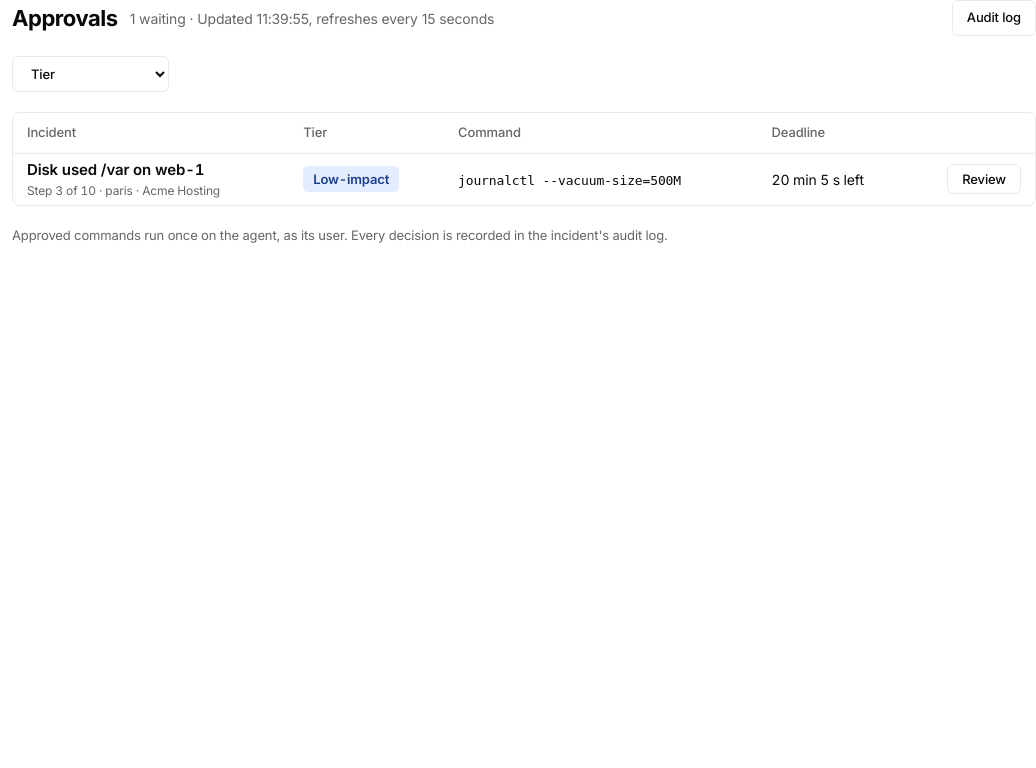
it: ApprovalQueue › approves an edited command
Click the button with aria-label "Review the command for web-1" at x=984, y=179, box [947,164,1021,194]
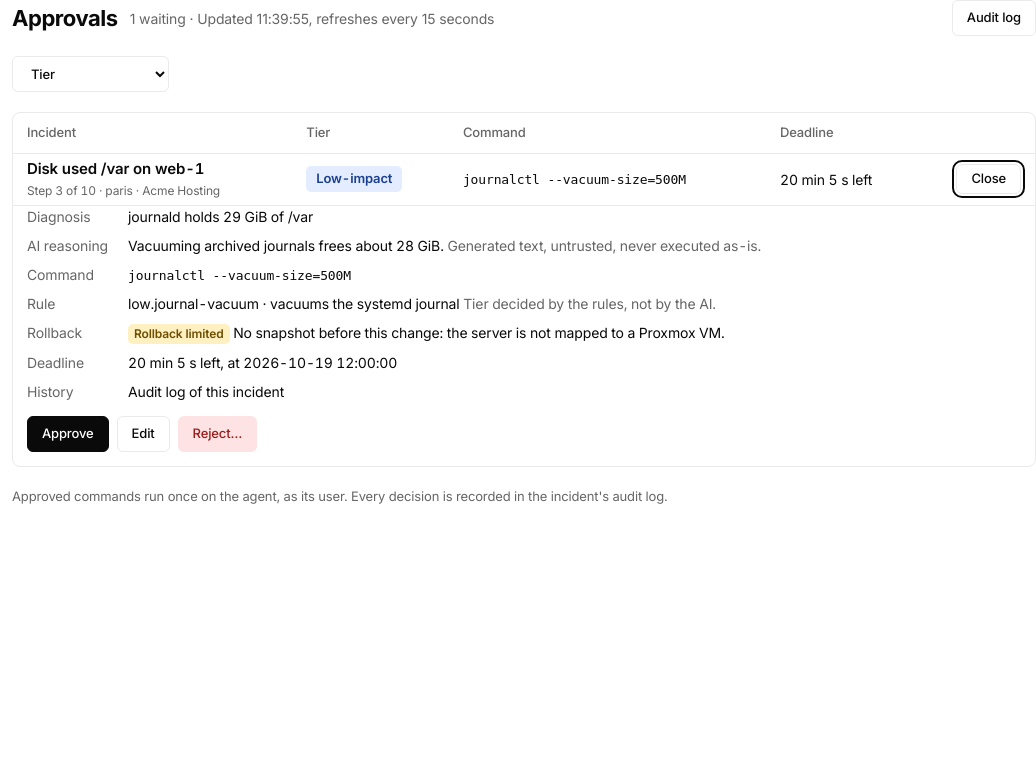
Click the button "Edit" at x=143, y=434, box [117,416,170,452]
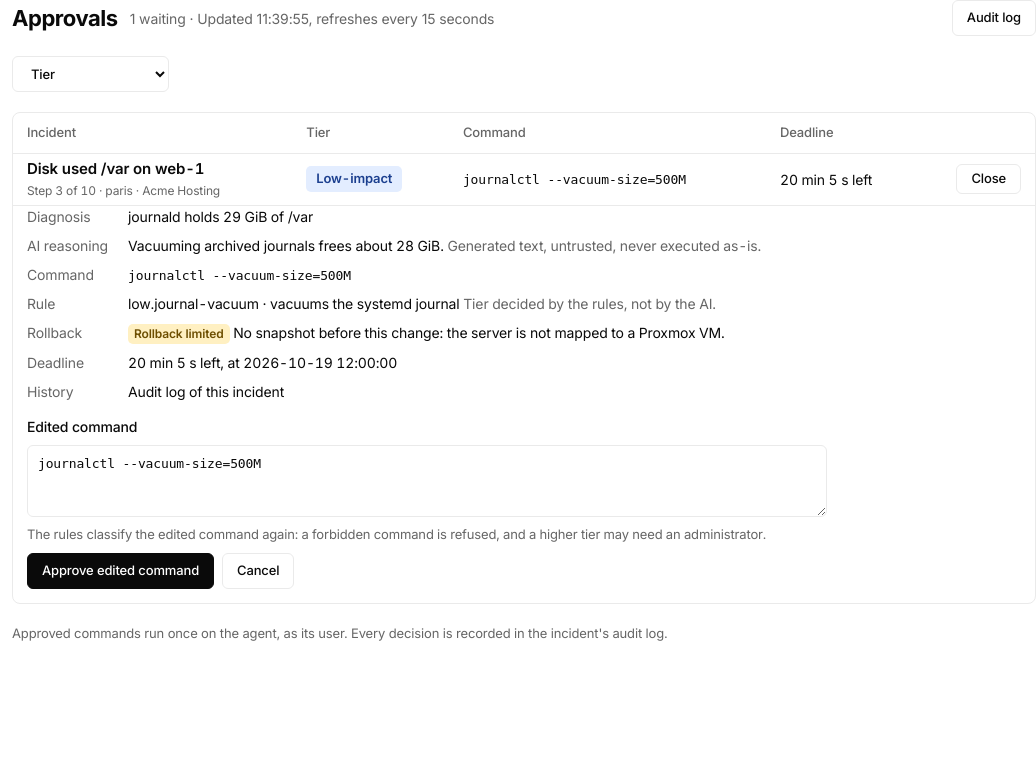
expect the text box labelled "Edited command" holds "journalctl --vacuum-size=500M": met
Clear the text box labelled "Edited command" at x=427, y=481, box [27,445,827,517]
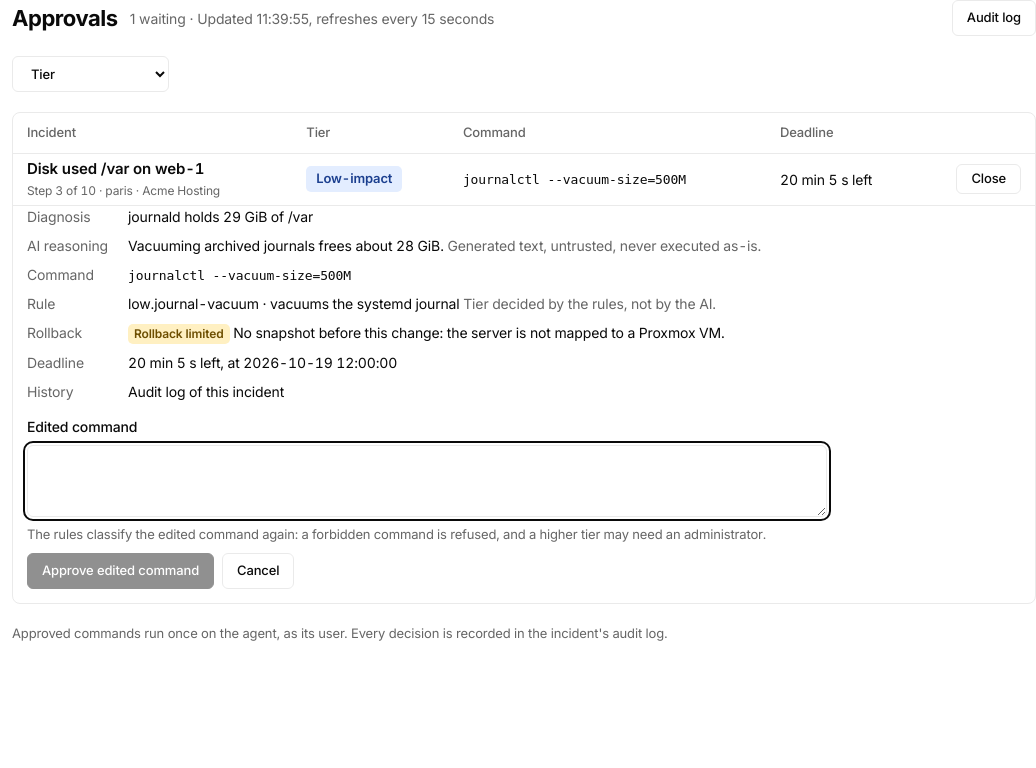
expect the button "Approve edited command" is disabled: met, box [27,552,214,588]
Type "journalctl --vacuum-size=1G" into the text box labelled "Edited command" at x=427, y=481, box [27,445,827,517]
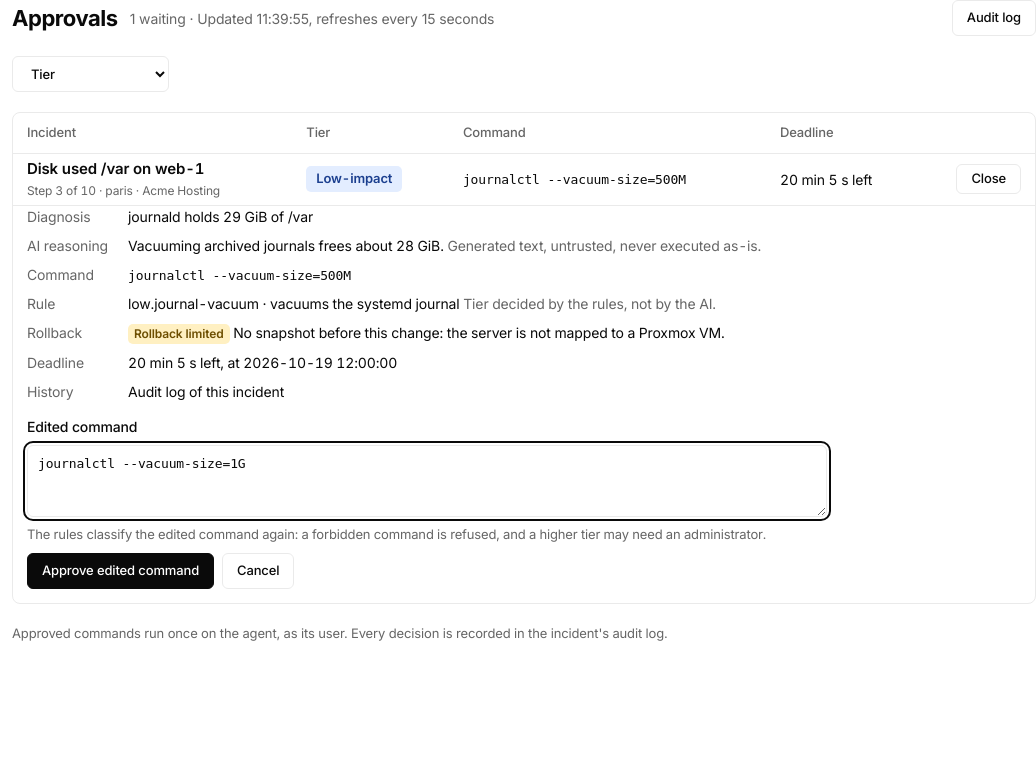
Click the button "Approve edited command" at x=120, y=570, box [27,552,214,588]
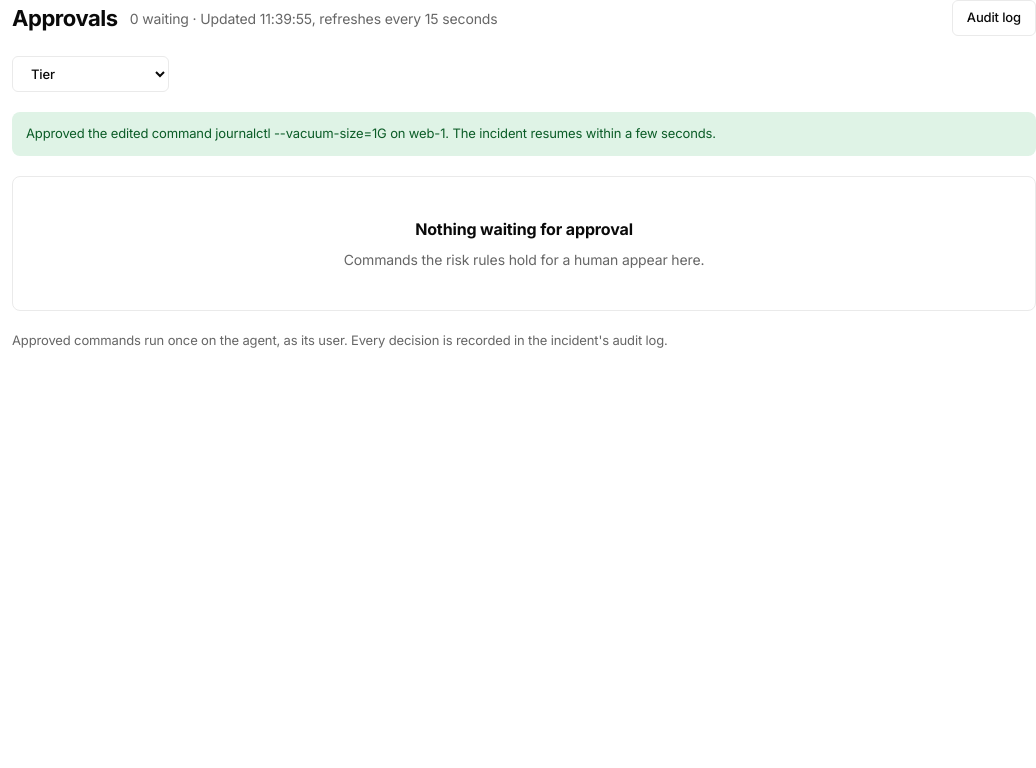
expect the text "Approved the edited command journalctl --vacuum-size=1G on web-1" is shown: met, box [26,125,716,141]
